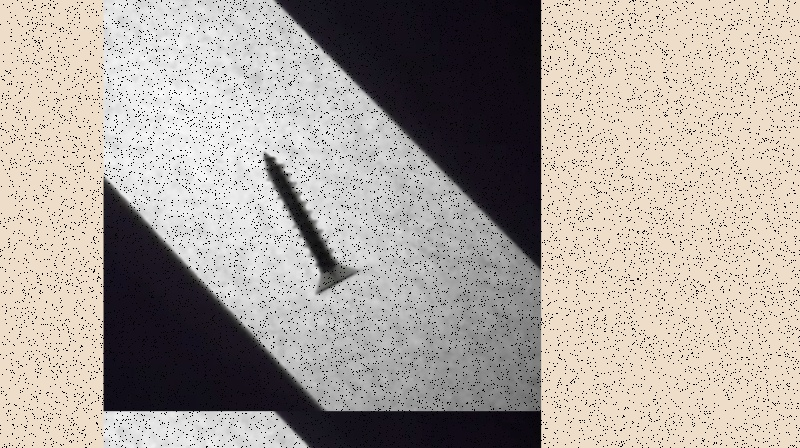S001: (260, 148, 363, 299)
